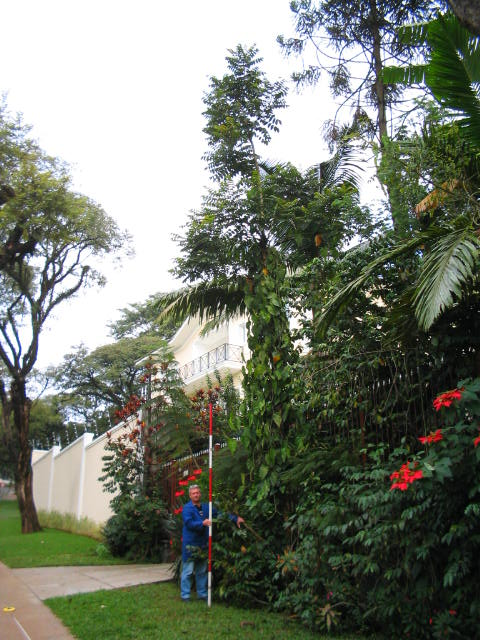crown: (1, 88, 138, 350)
stem: (3, 387, 50, 534)
stick: (203, 401, 224, 607)
tree: (1, 85, 140, 536)
